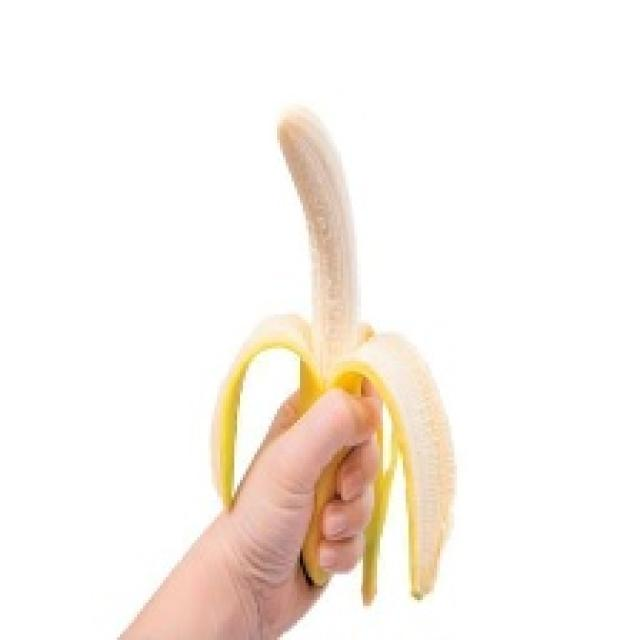Banana: (209, 103, 454, 606)
